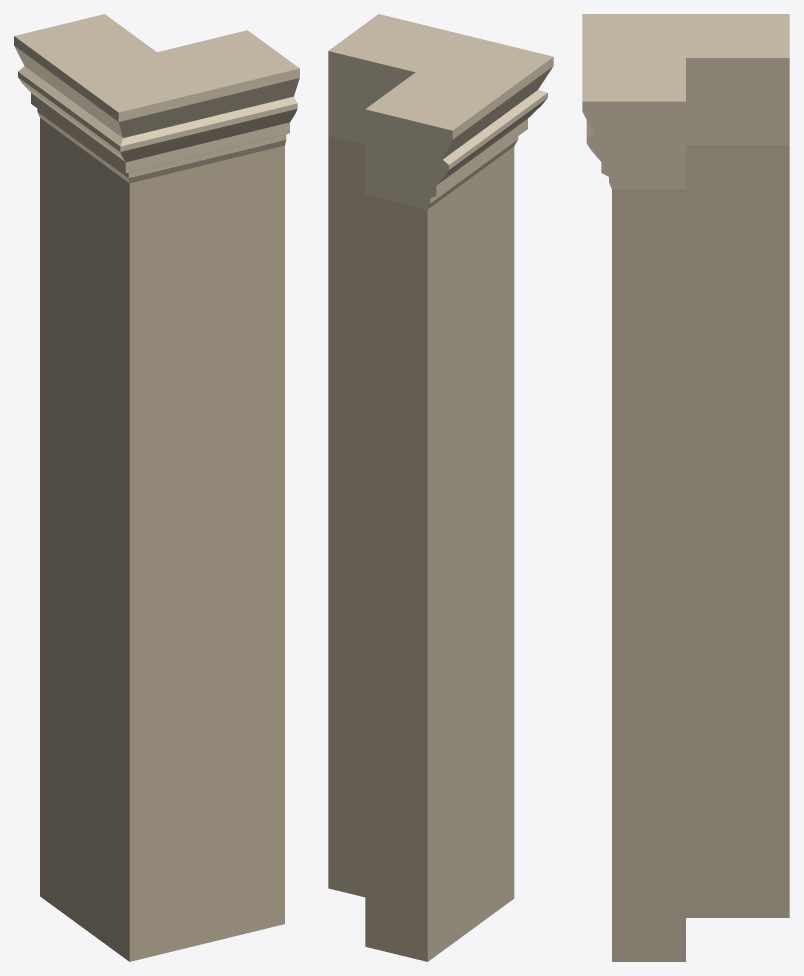
Rendered from T05_L_Wall_Corner.glb.
3 renders of one model, left to right at view 1: azimuth 30°, elevation 25°; view 2: azimuth 150°, elevation 25°; view 3: azimuth 270°, elevation 25°, orthographic. The views are drawn at different scales.
Visible parts, largest first — view 1: T05_L_Wall_Corner; view 2: T05_L_Wall_Corner; view 3: T05_L_Wall_Corner.
Part boxes in pixels (x1=…): T05_L_Wall_Corner: x1=14, y1=14, x2=299, y2=961; T05_L_Wall_Corner: x1=328, y1=14, x2=553, y2=961; T05_L_Wall_Corner: x1=582, y1=14, x2=789, y2=961.
Bounding box in the file's own units: 1.4 × 6.4 × 1.4.
